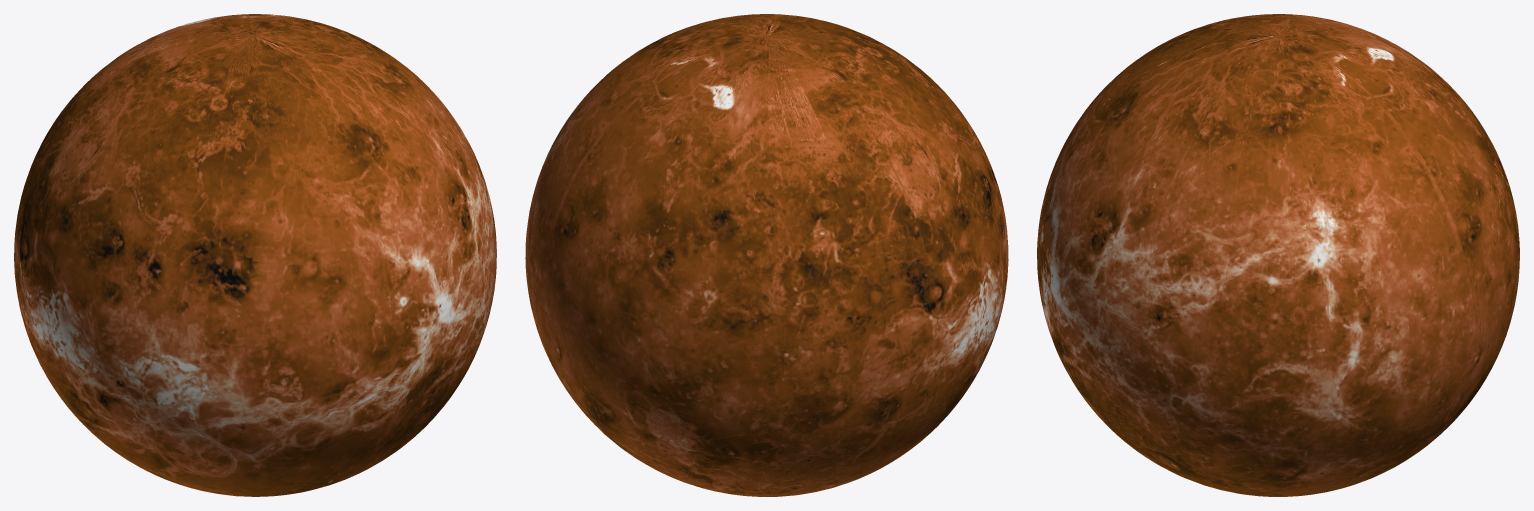
The model's file is venusGlb.glb.
The picture shows the model from 3 angles, left to right: view 1: azimuth 30°, elevation 25°; view 2: azimuth 150°, elevation 25°; view 3: azimuth 270°, elevation 25°; orthographic projection.
Visible parts, largest first — view 1: cylindrically_mapped_sphere; view 2: cylindrically_mapped_sphere; view 3: cylindrically_mapped_sphere.
Part boxes in pixels (<box>): cylindrically_mapped_sphere: <box>14,14,496,496</box>; cylindrically_mapped_sphere: <box>525,14,1008,496</box>; cylindrically_mapped_sphere: <box>1037,14,1519,496</box>.
Bounding box in the file's own units: 7.3 × 7.3 × 7.3.
1 material, 1 textured.
